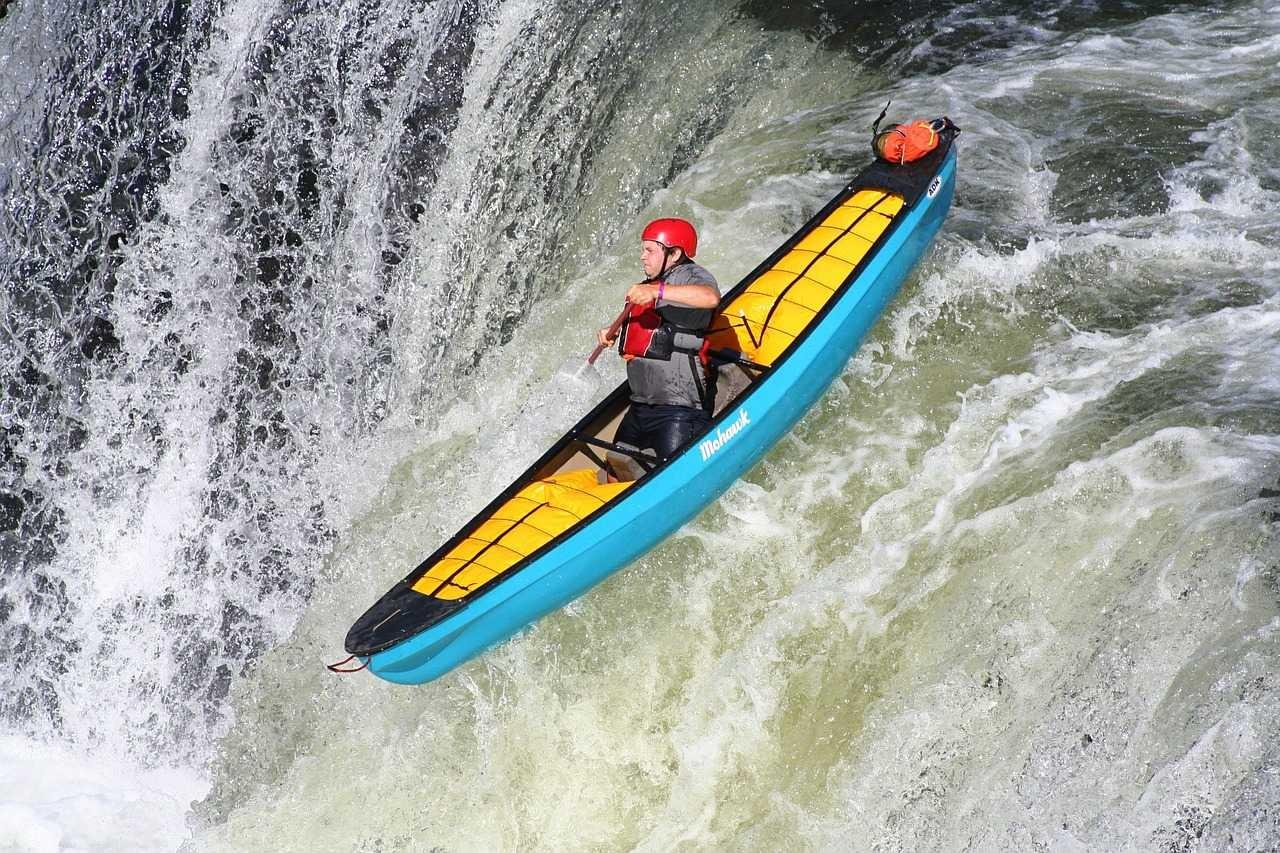kayak: (334, 116, 962, 684)
